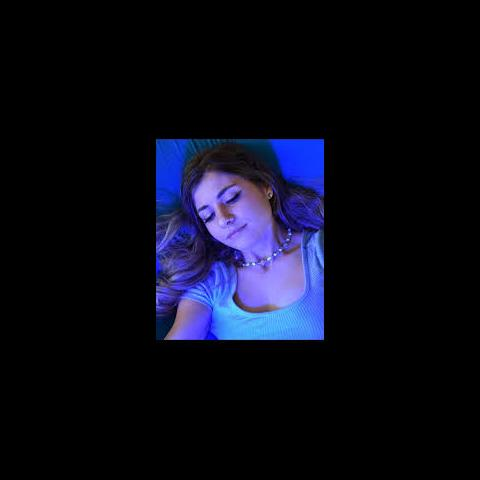closed: (188, 188, 256, 226)
